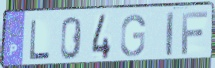0: (59, 15, 83, 62)
4: (91, 13, 113, 62)
F: (180, 10, 209, 56)
G: (119, 13, 147, 59)
I: (166, 10, 175, 58)
L: (28, 19, 52, 61)
